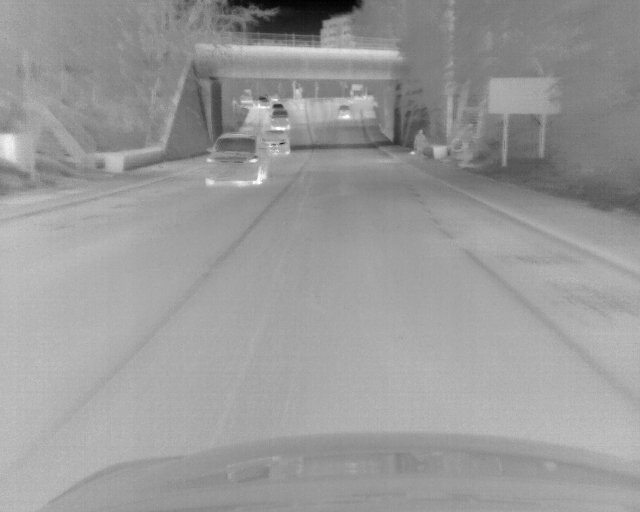car: (203, 130, 266, 188), (263, 129, 289, 155), (270, 109, 290, 132), (349, 83, 366, 102), (255, 95, 276, 107), (337, 104, 352, 120), (272, 103, 285, 111)
people: (409, 128, 428, 167)
